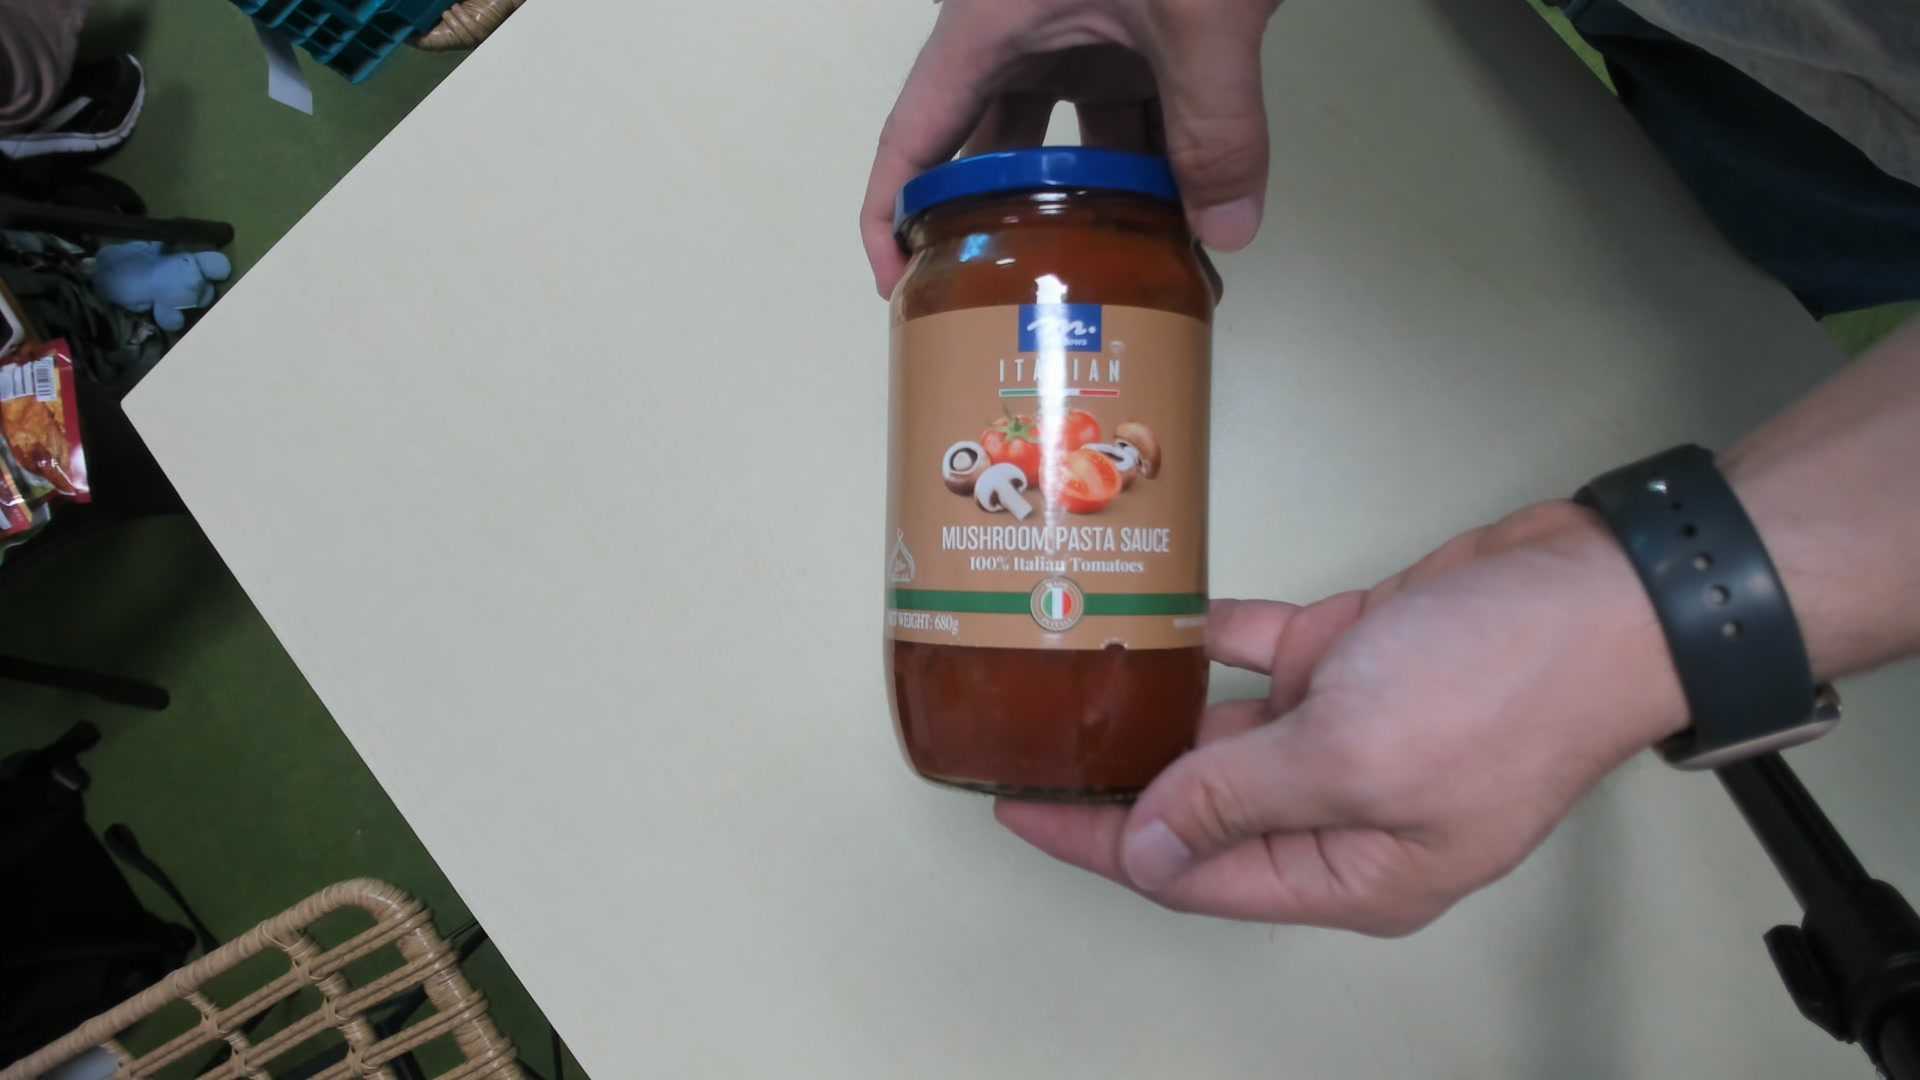PastaSauce_600-699g_Halal_NonHealthy: (884, 158, 1216, 806)
